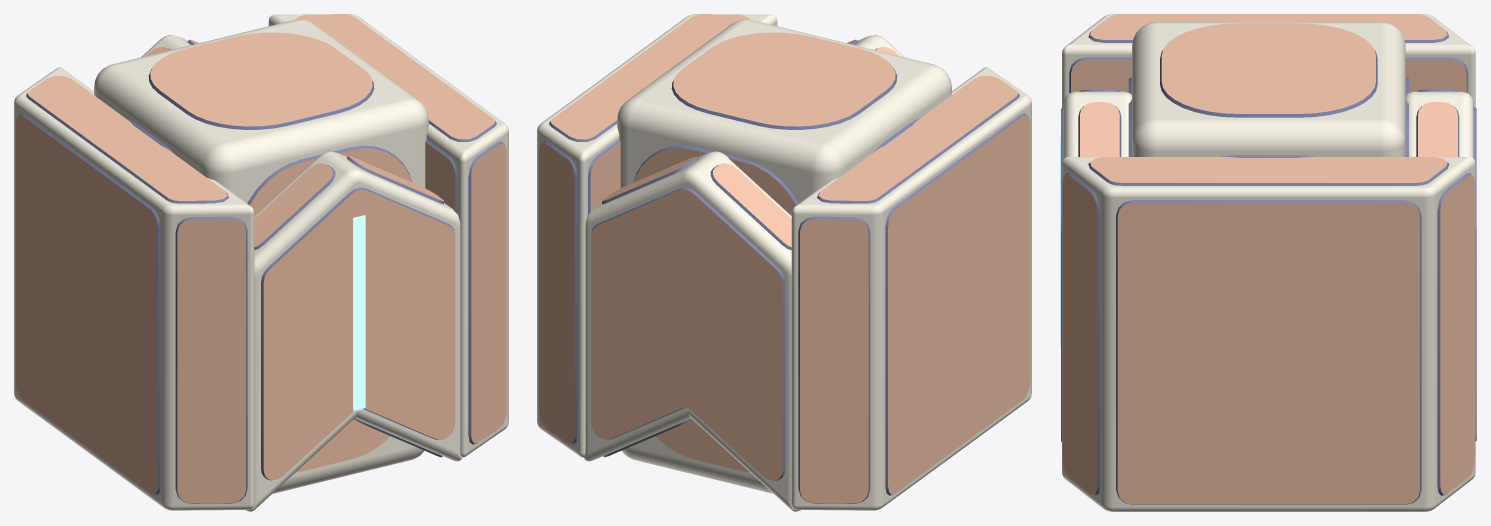
The model's file is R4X_HullBooster.fbx.
3 views of the same model, side by side, from view 1: azimuth 30°, elevation 25°; view 2: azimuth 150°, elevation 25°; view 3: azimuth 270°, elevation 25° (orthographic). The views are drawn at different scales.
Parts seen in each view (by area): view 1: R4X_HullBooster_Body; view 2: R4X_HullBooster_Body; view 3: R4X_HullBooster_Body.
Part boxes in pixels (left/top/right/bottom): R4X_HullBooster_Body: left=14, top=14, right=508, bottom=511; R4X_HullBooster_Body: left=537, top=14, right=1031, bottom=511; R4X_HullBooster_Body: left=1060, top=14, right=1476, bottom=511.
Bounding box in the file's own units: 0.52 × 0.52 × 0.5053.
